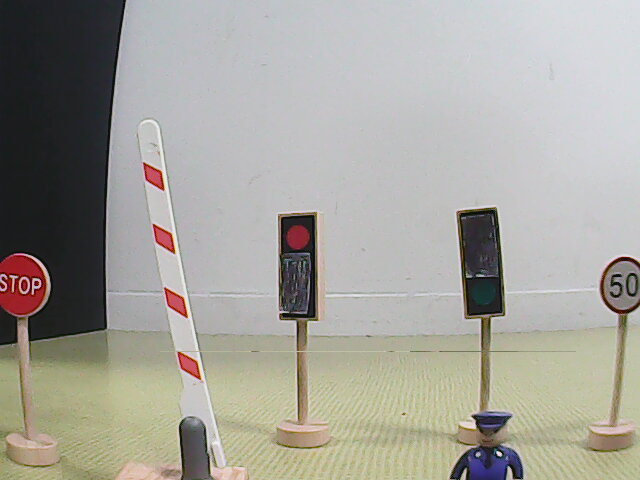barrier_up: (108, 114, 261, 480)
green_traffic_sign: (457, 208, 507, 318)
person: (447, 400, 528, 480)
red_traffic_sign: (279, 215, 323, 319)
sign_50: (595, 256, 640, 317)
stop_sign: (1, 254, 52, 317)
